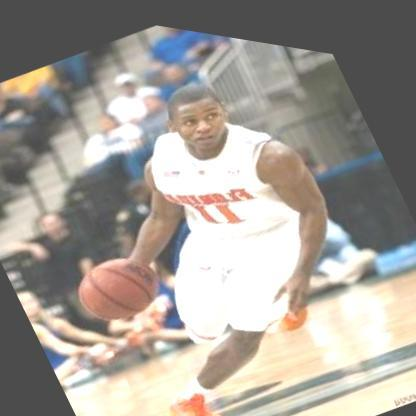basketball: (65, 229, 174, 340)
